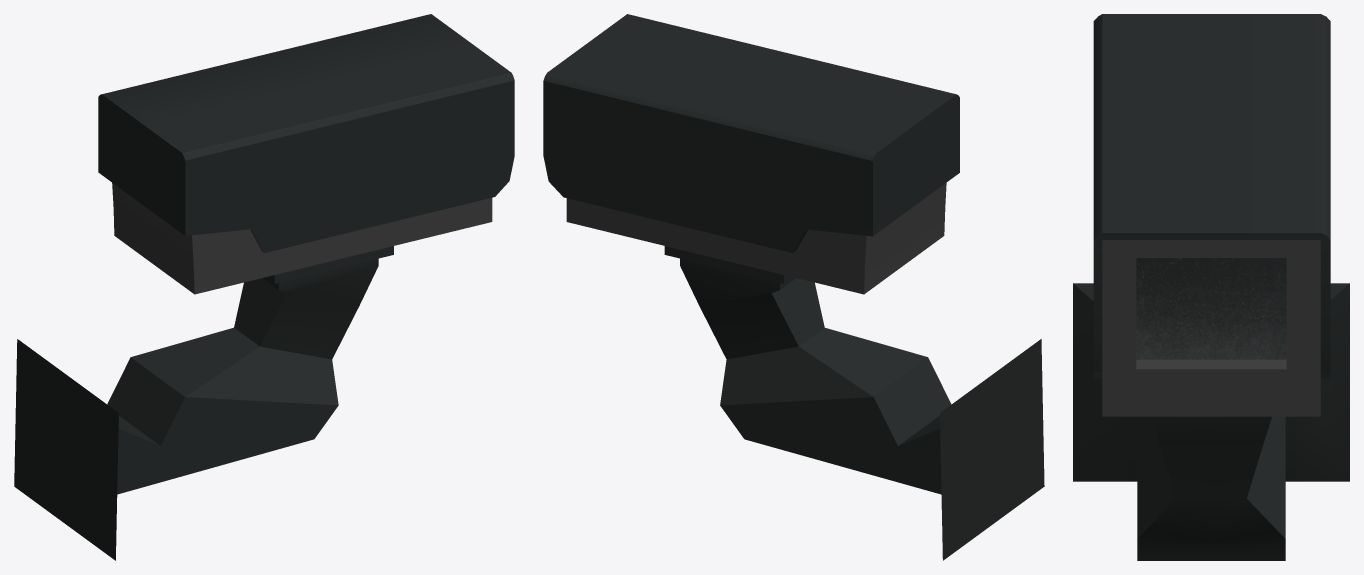
Rendered from Camera.fbx.
3 views of the same model, side by side, from view 1: azimuth 30°, elevation 25°; view 2: azimuth 150°, elevation 25°; view 3: azimuth 270°, elevation 25° (orthographic). The views are drawn at different scales.
Visible parts, largest first — view 1: Cube; view 2: Cube; view 3: Cube.
Part boxes in pixels (bbox=[...]): Cube: bbox=[14, 14, 514, 560]; Cube: bbox=[543, 14, 1044, 560]; Cube: bbox=[1073, 14, 1349, 560].
Bounding box in the file's own units: 531 × 476 × 230.
1 material, 1 textured.
